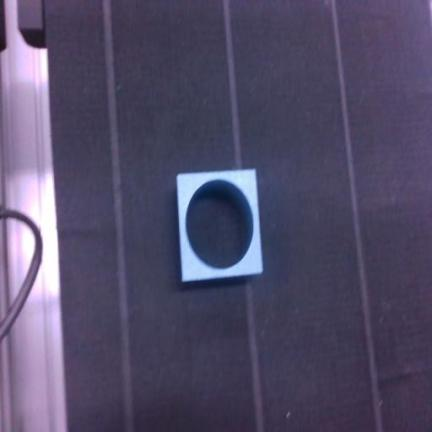square: (177, 169, 262, 281)
